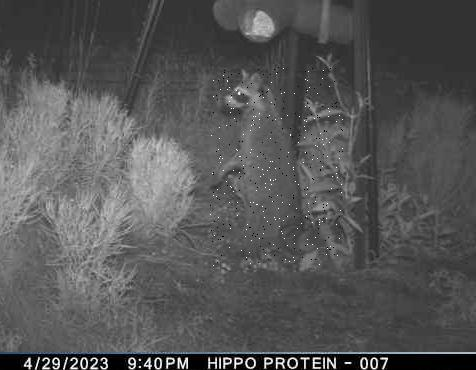Raccoon: (210, 68, 343, 267)
